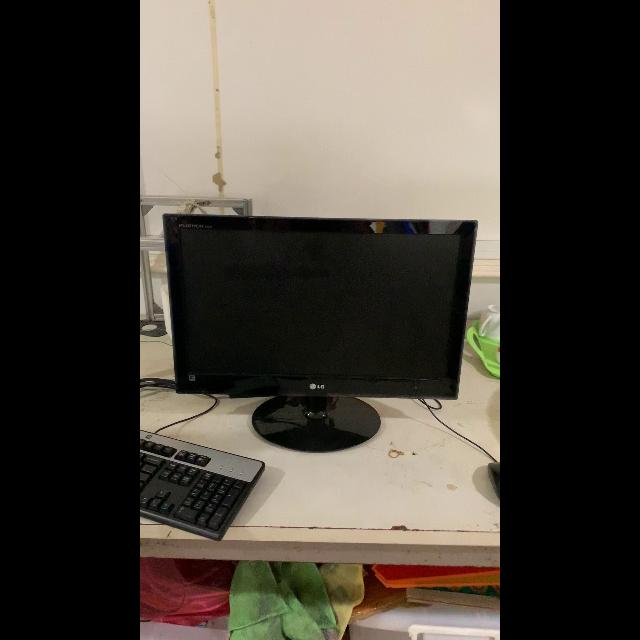Flat-Panel-Monitor: (160, 213, 480, 455)
